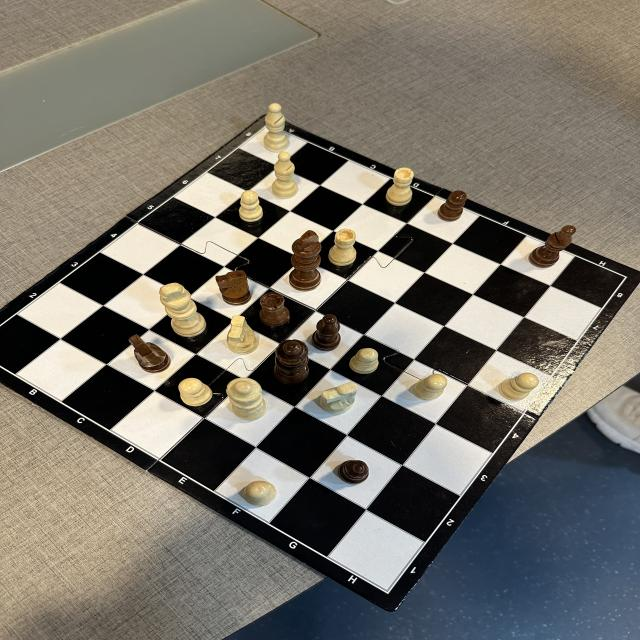Black-Bishop: (528, 225, 576, 269), (311, 314, 341, 351)
Black-King: (288, 230, 322, 292)
Black-Knight: (128, 334, 171, 373), (215, 270, 251, 306)
Black-Pawn: (437, 190, 467, 222), (338, 460, 369, 485)
Black-Queen: (273, 339, 310, 385)
Black-Rook: (258, 292, 290, 327)
White-Bishop: (264, 103, 291, 153), (271, 152, 299, 199)
White-King: (159, 282, 207, 338)
White-Knight: (226, 315, 259, 355), (319, 382, 358, 414)
White-Pawn: (498, 372, 540, 402), (178, 378, 213, 407), (413, 374, 448, 401), (243, 481, 278, 506), (238, 190, 264, 222), (348, 348, 378, 374)
White-Queen: (225, 377, 268, 421)
White-Rook: (328, 228, 357, 266), (386, 167, 414, 206)
